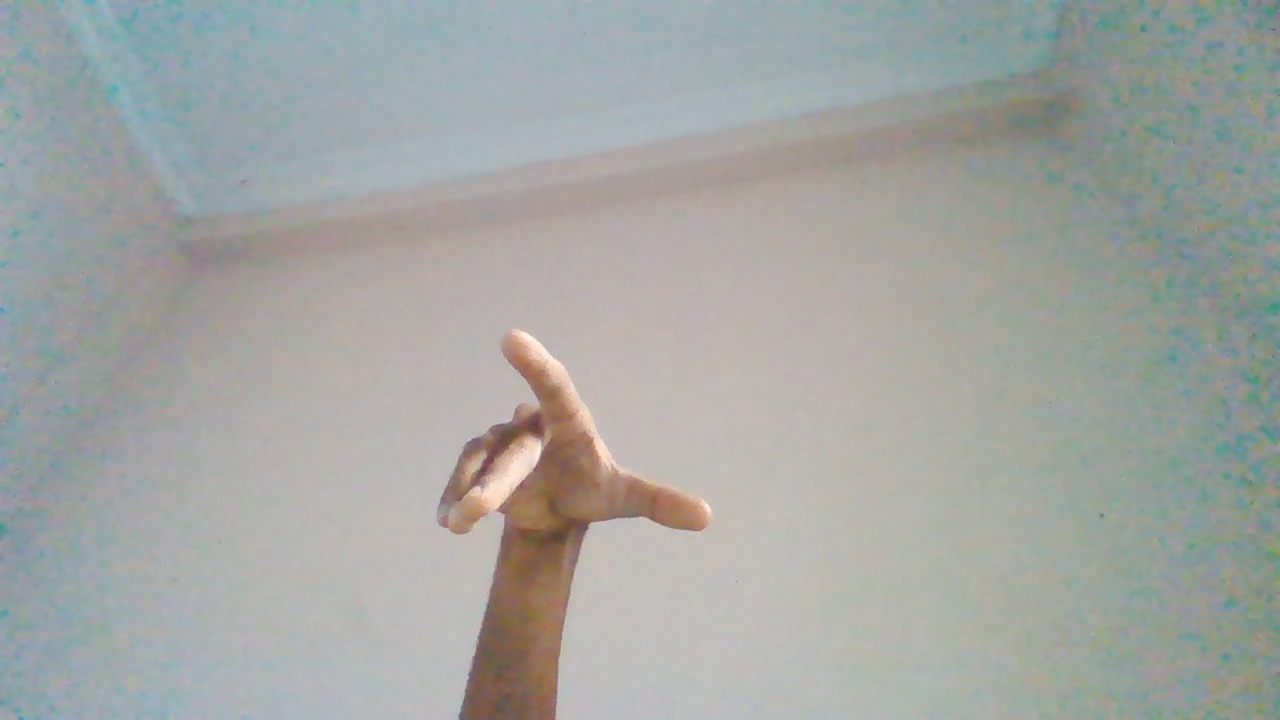ke: (438, 323, 713, 666)
